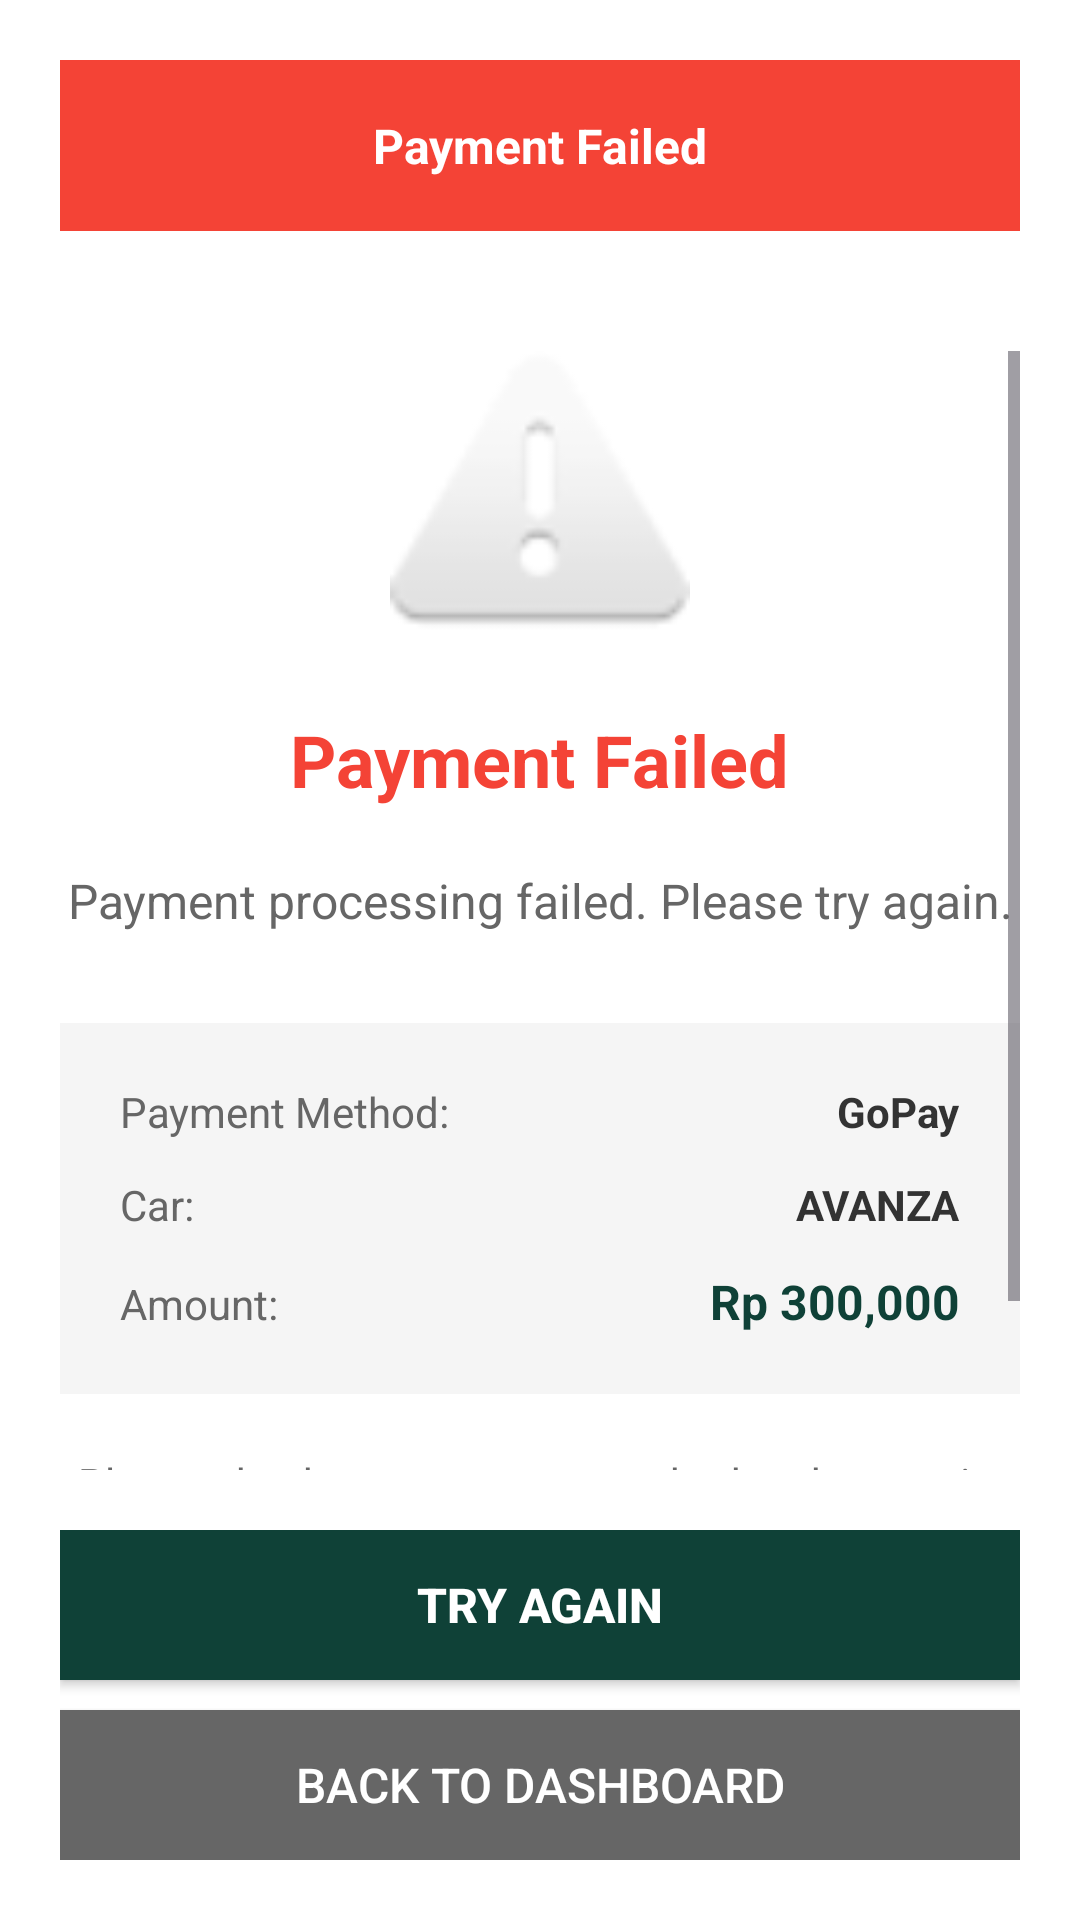

Where icons sit on this 1080px x 1920px app screen, as [x1, y1, x2, y2]:
alert: [390, 421, 690, 623]
